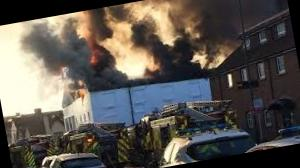Smoke: (13, 5, 139, 104), (117, 6, 224, 90), (158, 0, 294, 63)
